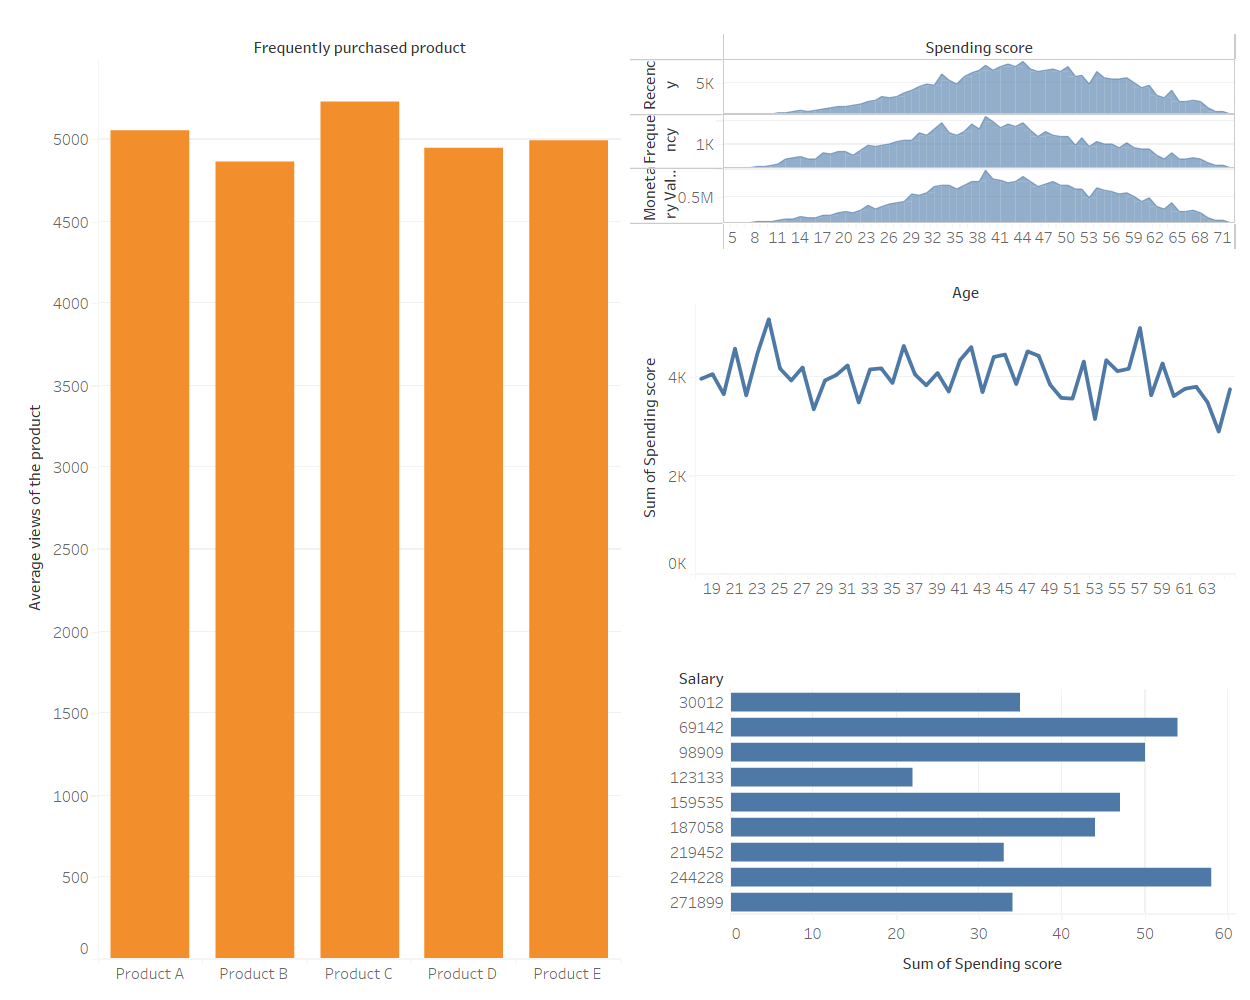

The page's visual inventory and layout, read from the dashboard file:
{"tool":"tableau","page":{"name":"Dashboard 1","canvas":[1000,800],"ordinal":0},"visuals":[{"type":"worksheet","title":"Sheet 3","mark":"Automatic","rows":["Average views of the product"],"cols":["Frequently purchased product"],"box":[8,8,492,784]},{"type":"worksheet","title":"Sheet 5","mark":"Area","rows":["Recency","Frequency","Monetary Value"],"cols":["Spending score"],"box":[500,8,492,196]},{"type":"worksheet","title":"Sheet 4","mark":"Line","rows":["Spending score"],"cols":["Age"],"box":[500,204,492,280]},{"type":"worksheet","title":"Sheet 2","mark":"Automatic","rows":["Salary"],"cols":["Spending score"],"box":[500,484,492,308]}]}

Visuals, with their boxes in screenshot pixels (x1, y1, x2, y2), scaled from the page's 1000x800 canvas onto the 1250x1000 screenshot:
"Sheet 3" worksheet: bbox(10, 10, 625, 990)
"Sheet 5" worksheet (Area marks): bbox(625, 10, 1240, 255)
"Sheet 4" worksheet (Line marks): bbox(625, 255, 1240, 605)
"Sheet 2" worksheet: bbox(625, 605, 1240, 990)
